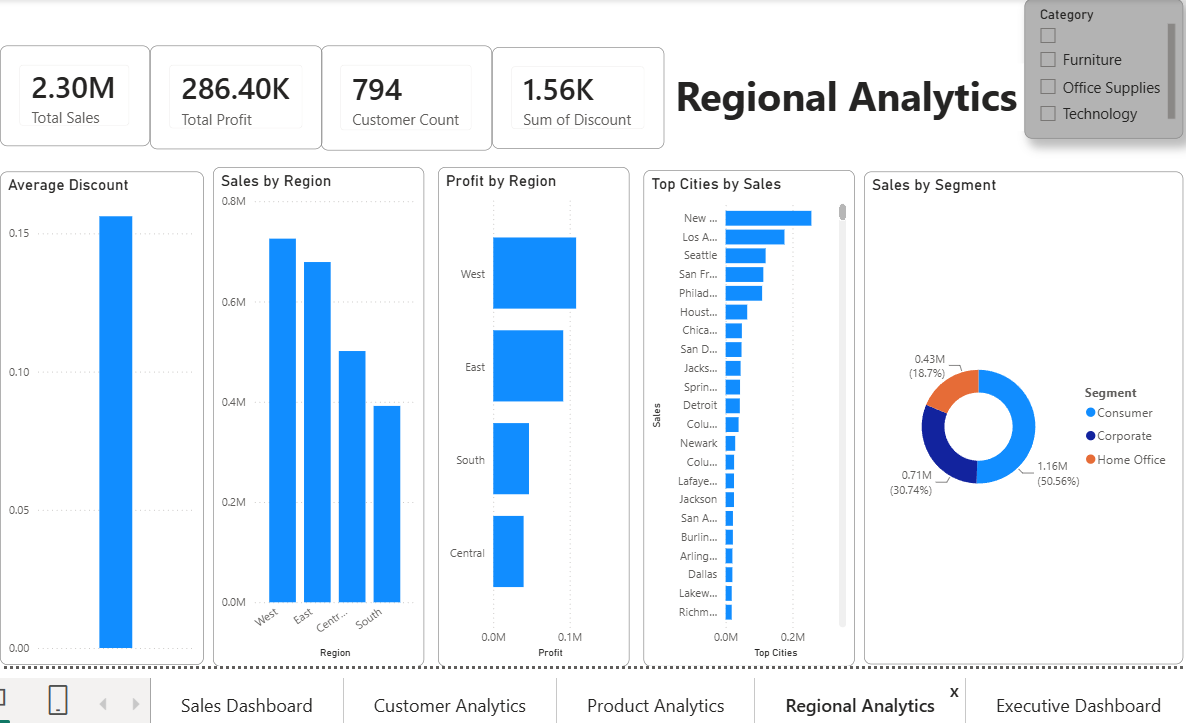

Layout of this report page (visuals, bound fields, positions):
{"tool":"powerbi","page":{"name":"Regional Analytics","canvas":[1280,720],"ordinal":3},"visuals":[{"type":"cardVisual","fields":{"Data":["Sum(superstore.Sales)"]},"box":[0,50.2,161.9,108.5],"z":0},{"type":"cardVisual","fields":{"Data":["Count(superstore.Customer ID)"]},"box":[346,50.2,184.6,113.3],"z":1000},{"type":"clusteredColumnChart","fields":{"Y":["Avg(superstore.Discount)"]},"box":[0,186.2,219.7,532.7],"z":2000},{"type":"clusteredColumnChart","fields":{"Category":["superstore.Region"],"Y":["Sum(superstore.Sales)"]},"box":[229.9,181.4,227.8,539.2],"z":3000},{"type":"clusteredBarChart","fields":{"Category":["superstore.Region"],"Y":["Sum(superstore.Profit)"]},"box":[473.4,181.4,206.7,539.2],"z":4000},{"type":"clusteredBarChart","fields":{"Category":["superstore.City"],"Y":["Sum(superstore.Sales)"]},"box":[694.1,184,228.3,536],"z":5000},{"type":"donutChart","fields":{"Category":["superstore.Segment"],"Y":["Sum(superstore.Sales)"]},"box":[932.7,186.2,344.9,532.2],"z":6000},{"type":"cardVisual","fields":{"Data":["Sum(superstore.Profit)"]},"box":[162.5,49.7,186.2,111.7],"z":7000},{"type":"slicer","fields":{"Values":["superstore.Category"]},"box":[1105.9,0,171.6,150.6],"z":8000},{"type":"textbox","box":[723.3,69.6,381.1,72.9],"z":9000},{"type":"cardVisual","fields":{"Data":["Sum(superstore.Discount)"]},"box":[531.1,51.8,186.2,110.1],"z":10000}]}

Visuals, with their boxes on the page's 1280x720 design canvas (x1, y1, x2, y2). These are canvas units, not pixel positions in the 1186x723 screenshot, which may show the page scaled, cropped or inside an application window:
cardVisual - Sum(superstore.Sales): [left=0, top=50, right=162, bottom=159]
cardVisual - Count(superstore.Customer ID): [left=346, top=50, right=531, bottom=164]
clusteredColumnChart - Avg(superstore.Discount): [left=0, top=186, right=220, bottom=719]
clusteredColumnChart - superstore.Region x Sum(superstore.Sales): [left=230, top=181, right=458, bottom=721]
clusteredBarChart - superstore.Region x Sum(superstore.Profit): [left=473, top=181, right=680, bottom=721]
clusteredBarChart - superstore.City x Sum(superstore.Sales): [left=694, top=184, right=922, bottom=720]
donutChart - superstore.Segment x Sum(superstore.Sales): [left=933, top=186, right=1278, bottom=718]
cardVisual - Sum(superstore.Profit): [left=162, top=50, right=349, bottom=161]
slicer - superstore.Category: [left=1106, top=0, right=1278, bottom=151]
textbox: [left=723, top=70, right=1104, bottom=142]
cardVisual - Sum(superstore.Discount): [left=531, top=52, right=717, bottom=162]
